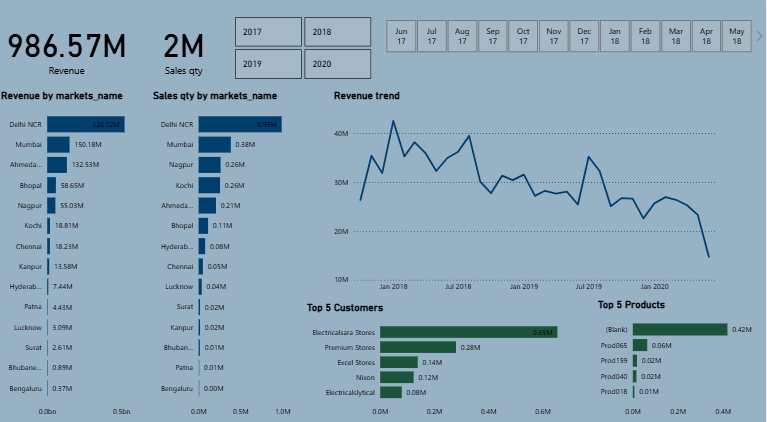

The dashboard page shown, as its layout file describes it:
{"tool":"powerbi","page":{"name":"Page 1","canvas":[1280,720],"ordinal":0},"visuals":[{"type":"card","fields":{"Values":["basemeasures (2).Revenue"]},"box":[0,0,228.3,165],"z":0},{"type":"card","fields":{"Values":["basemeasures (2).Sales qty"]},"box":[228.3,0,161.7,165],"z":1000},{"type":"barChart","fields":{"Y":["basemeasures (2).Revenue"],"Category":["sales markets.markets_name"]},"box":[0,151.7,276.7,555],"z":2000},{"type":"barChart","fields":{"Y":["basemeasures (2).Sales qty"],"Category":["sales markets.markets_name"]},"box":[253.3,151.7,271.7,555],"z":3000},{"type":"advancedSlicerVisual","fields":{"Values":["sales date.year"]},"box":[390,26.7,238.3,113.3],"z":4000},{"type":"slicer","fields":{"Values":["sales date.cy_date"]},"box":[621.7,30,658.3,66.7],"z":5000},{"type":"barChart","title":"Top 5 Customers","fields":{"Y":["basemeasures (2).Sales qty"],"Category":["sales customers.custmer_name"]},"box":[510,505,480,201.7],"z":6000},{"type":"barChart","title":"Top 5 Products","fields":{"Y":["basemeasures (2).Sales qty"],"Category":["sales products.product_code"]},"box":[995,500,285,206.7],"z":7000},{"type":"lineChart","title":"Revenue trend","fields":{"Y":["basemeasures (2).Revenue"],"Category":["sales date.cy_date.Variation.Date Hierarchy.Year","sales date.cy_date.Variation.Date Hierarchy.Quarter","sales date.cy_date.Variation.Date Hierarchy.Month","sales date.cy_date.Variation.Date Hierarchy.Day"]},"box":[555.7,152.4,658.8,348],"z":8000}]}

Visuals, with their boxes in screenshot pixels (x1, y1, x2, y2), scaled from the page's 1280x720 canvas onto the 767x422 screenshot:
card - basemeasures (2).Revenue: (x1=0, y1=0, x2=137, y2=97)
card - basemeasures (2).Sales qty: (x1=137, y1=0, x2=234, y2=97)
barChart - basemeasures (2).Revenue x sales markets.markets_name: (x1=0, y1=89, x2=166, y2=414)
barChart - basemeasures (2).Sales qty x sales markets.markets_name: (x1=152, y1=89, x2=315, y2=414)
advancedSlicerVisual - sales date.year: (x1=234, y1=16, x2=376, y2=82)
slicer - sales date.cy_date: (x1=373, y1=18, x2=766, y2=57)
"Top 5 Customers" barChart: (x1=306, y1=296, x2=593, y2=414)
"Top 5 Products" barChart: (x1=596, y1=293, x2=766, y2=414)
"Revenue trend" lineChart: (x1=333, y1=89, x2=728, y2=293)
